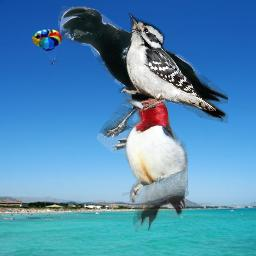Crow: (58, 6, 228, 154)
Woodpecker: (118, 13, 216, 111), (122, 98, 190, 235)
